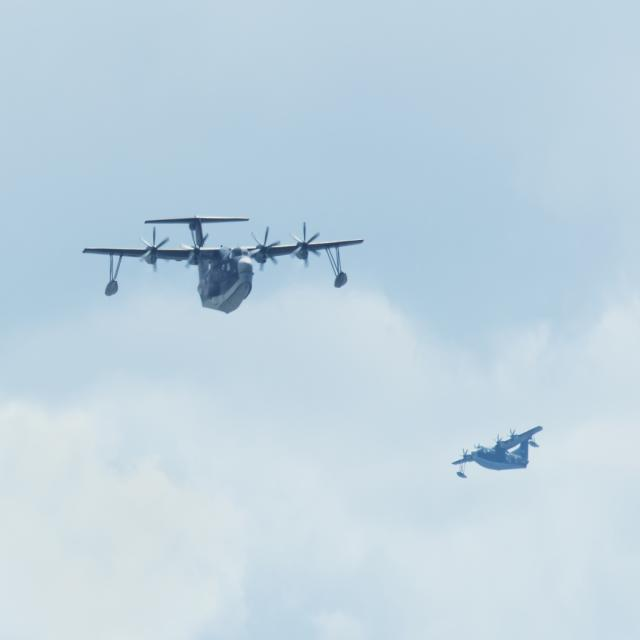MIL_Plane: (81, 215, 364, 314), (451, 424, 543, 478)
